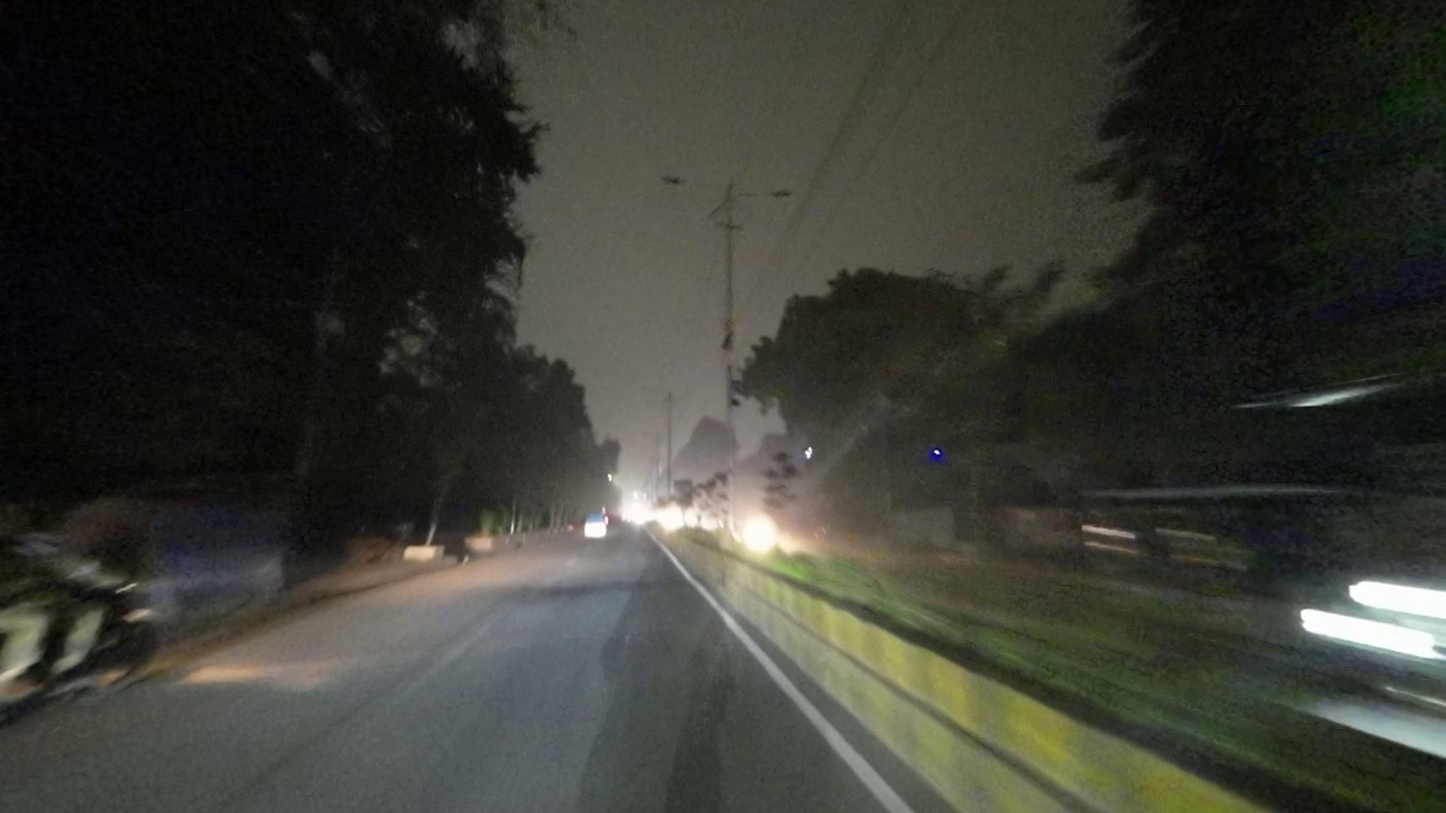streetlight: (658, 172, 725, 197), (736, 186, 795, 209)
